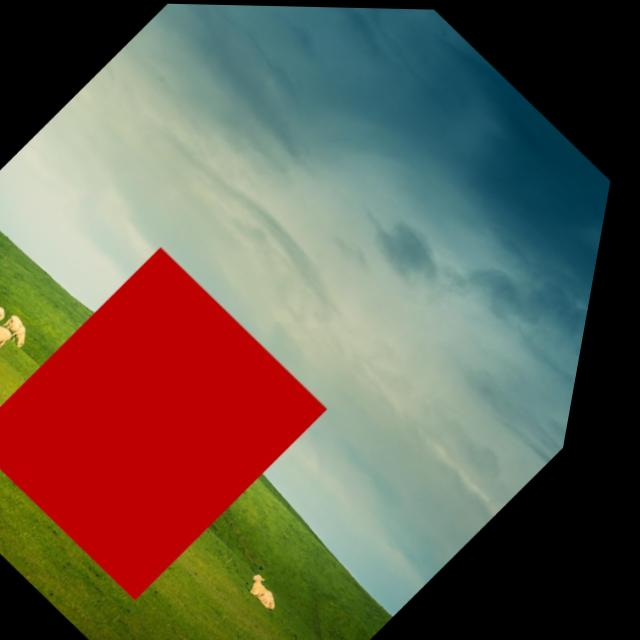RedSquare: (0, 229, 383, 619)
